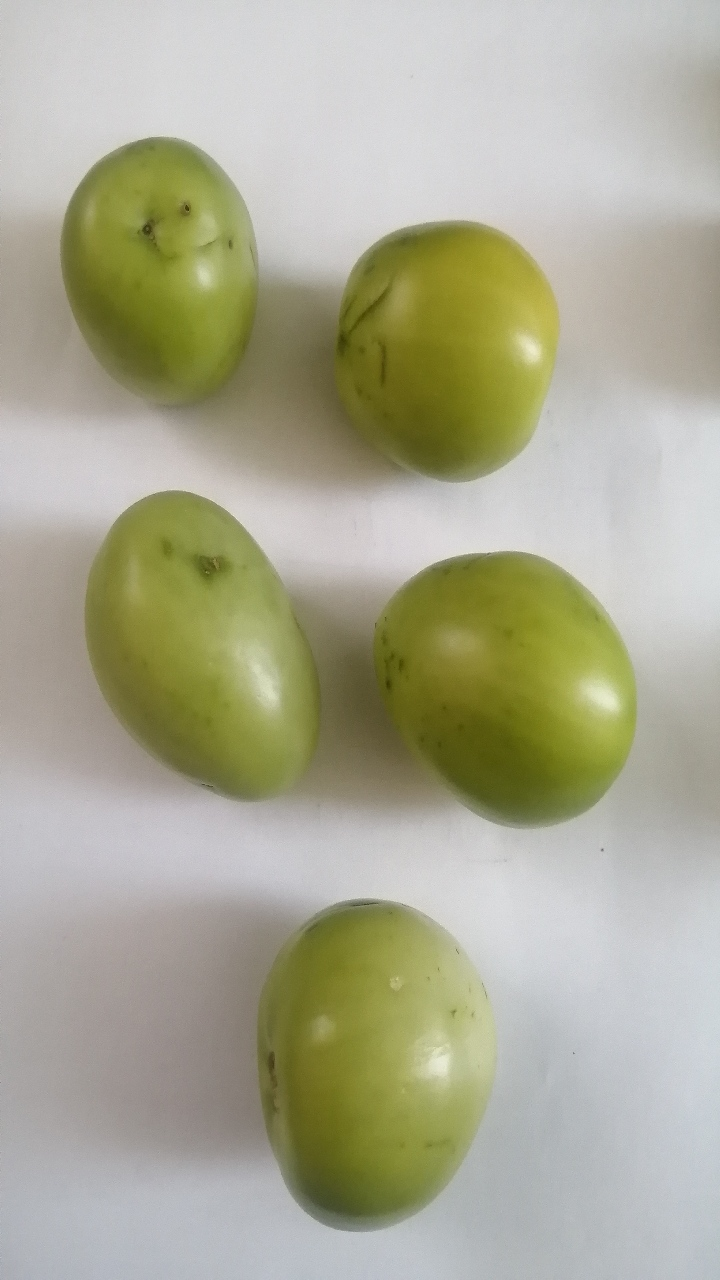tomateVerde: (228, 872, 517, 1259), (72, 459, 346, 823), (344, 517, 640, 843), (315, 194, 569, 505), (38, 108, 277, 422)
